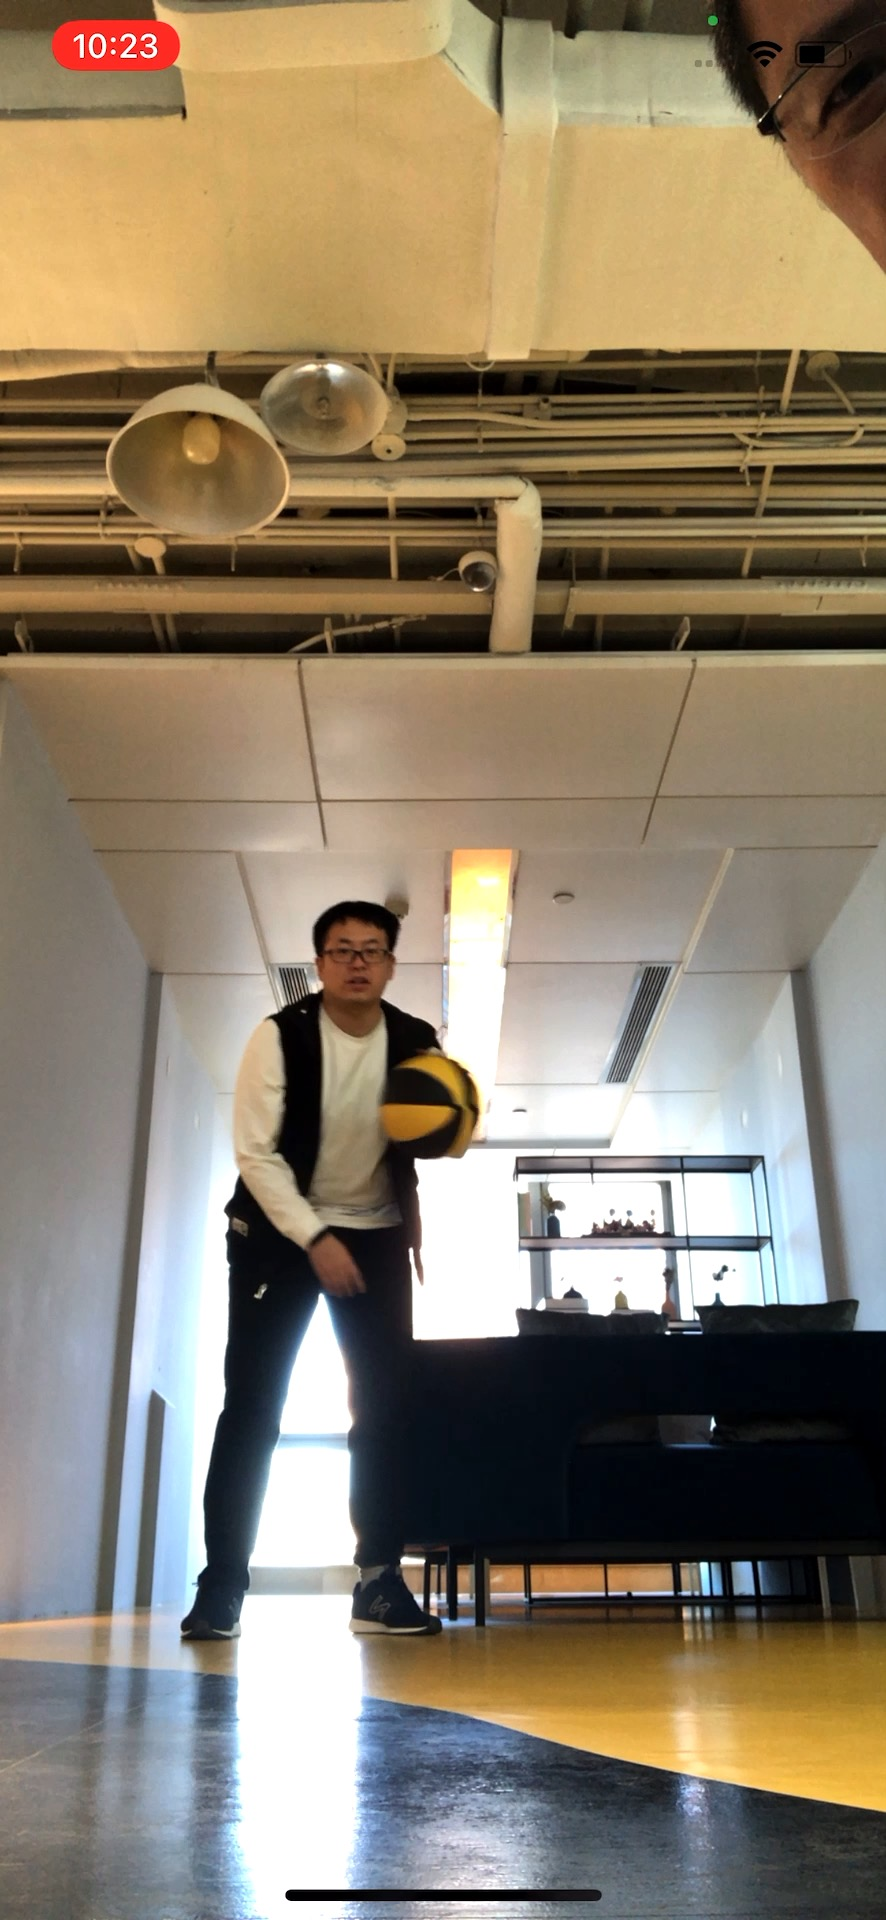ball: (384, 1049, 480, 1161)
